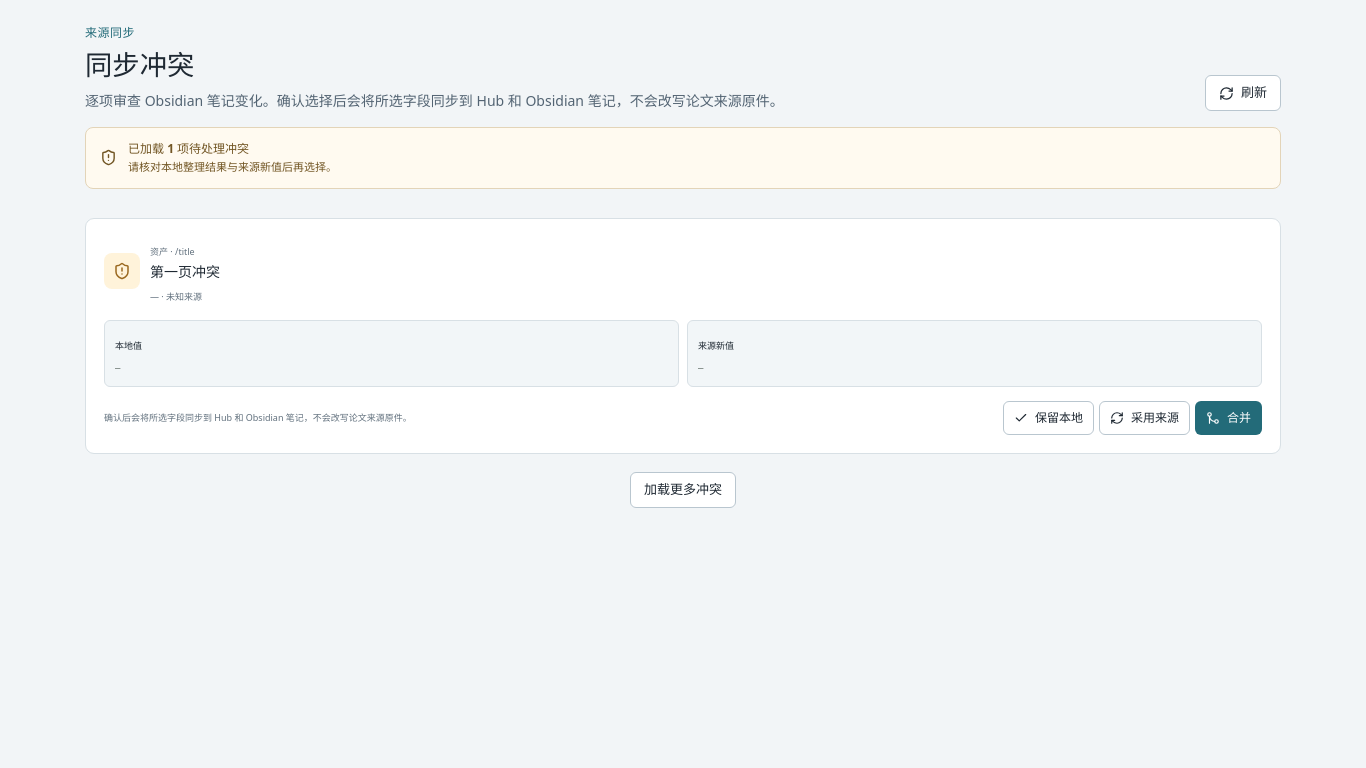
Scenario: ConflictsPage › loads further pending conflicts and refetches the loaded list after resolution
The image size is (1366, 768).
Check: the heading "第一页冲突" is shown, box top-left (150, 262), bottom-right (220, 281)
Step 1. Click the button "加载更多冲突" → click(683, 490), box top-left (630, 472), bottom-right (736, 508)
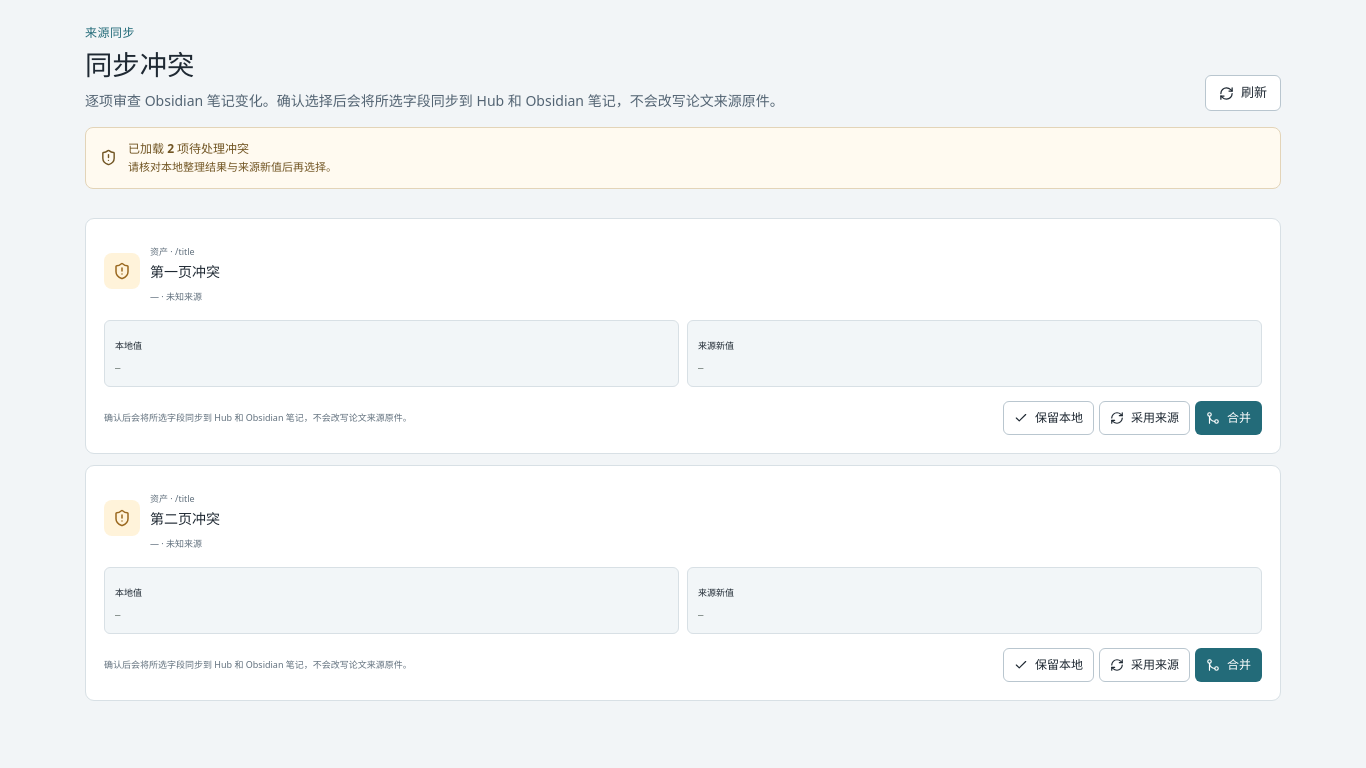
Check: the heading "第二页冲突" is shown, box top-left (150, 509), bottom-right (220, 528)
Step 2. Click the 1st button "保留本地" → click(1048, 418), box top-left (1003, 401), bottom-right (1094, 435)
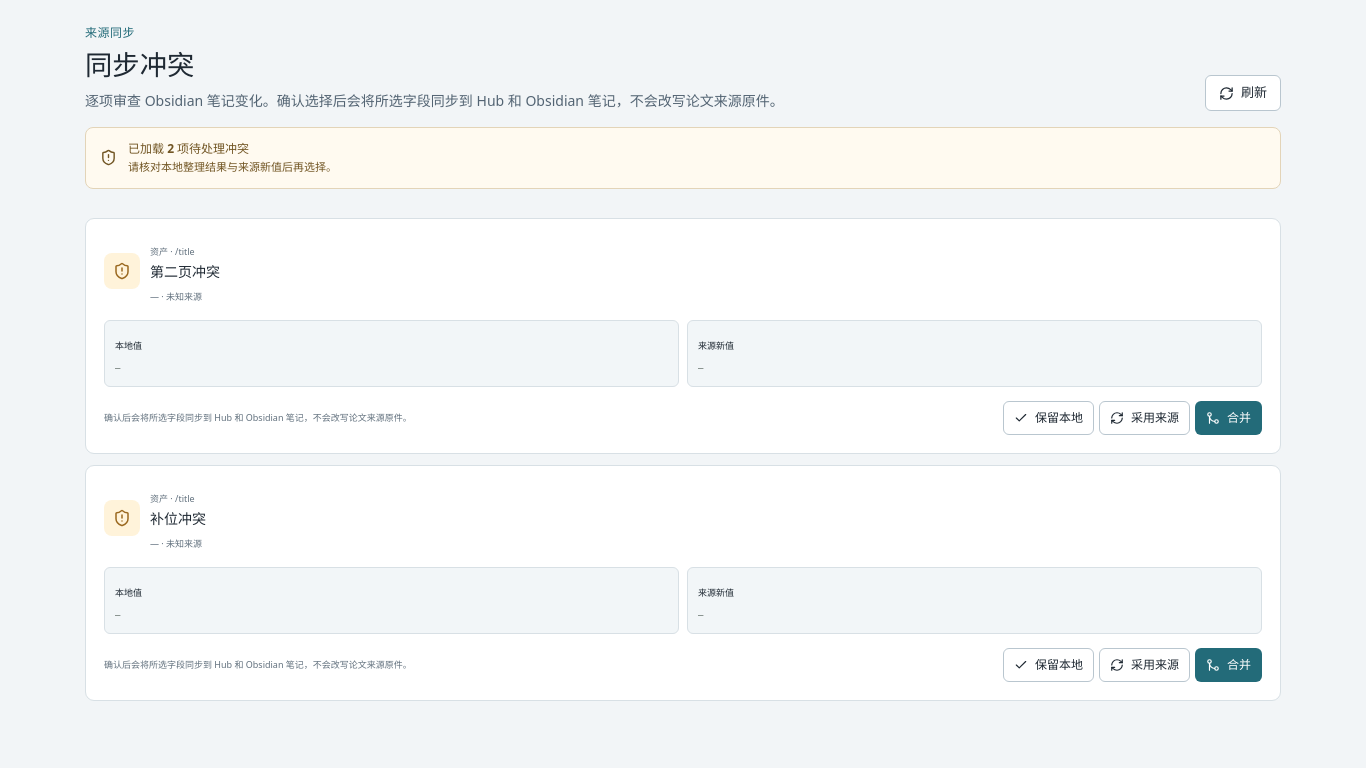
Check: the number of headings "第二页冲突" is 1, box top-left (150, 262), bottom-right (220, 281)
Check: the heading "补位冲突" is shown, box top-left (150, 509), bottom-right (206, 528)
Check: the heading "第一页冲突" is gone
